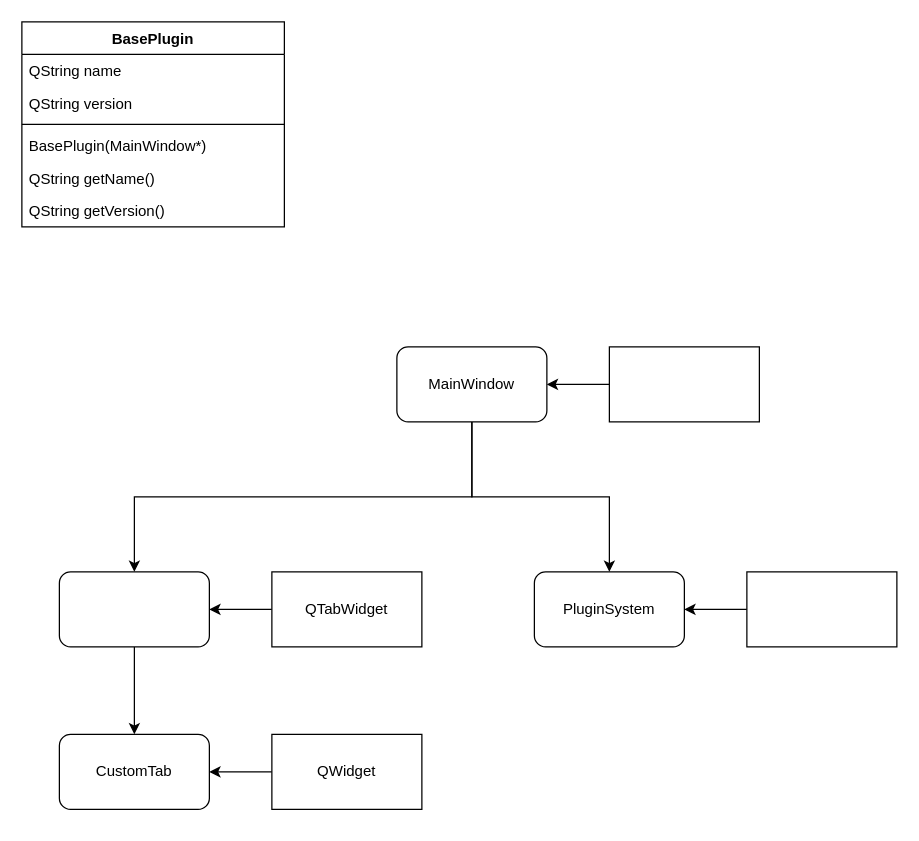
The diagram is 919 pixels wide and 841 high, and some of its shapes have lost their labels. The shapes that lost their labels are listed below. From the top down, each one's centre as x and y in pixels, then its label:
(683,384): QMainWindow
(133,609): CustomTabWidget
(821,609): QObject
